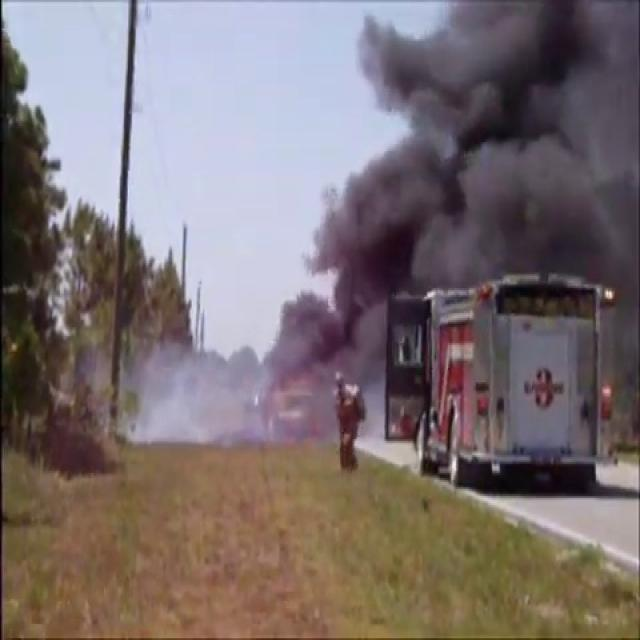Smoke: (317, 0, 640, 345), (130, 350, 286, 450)
